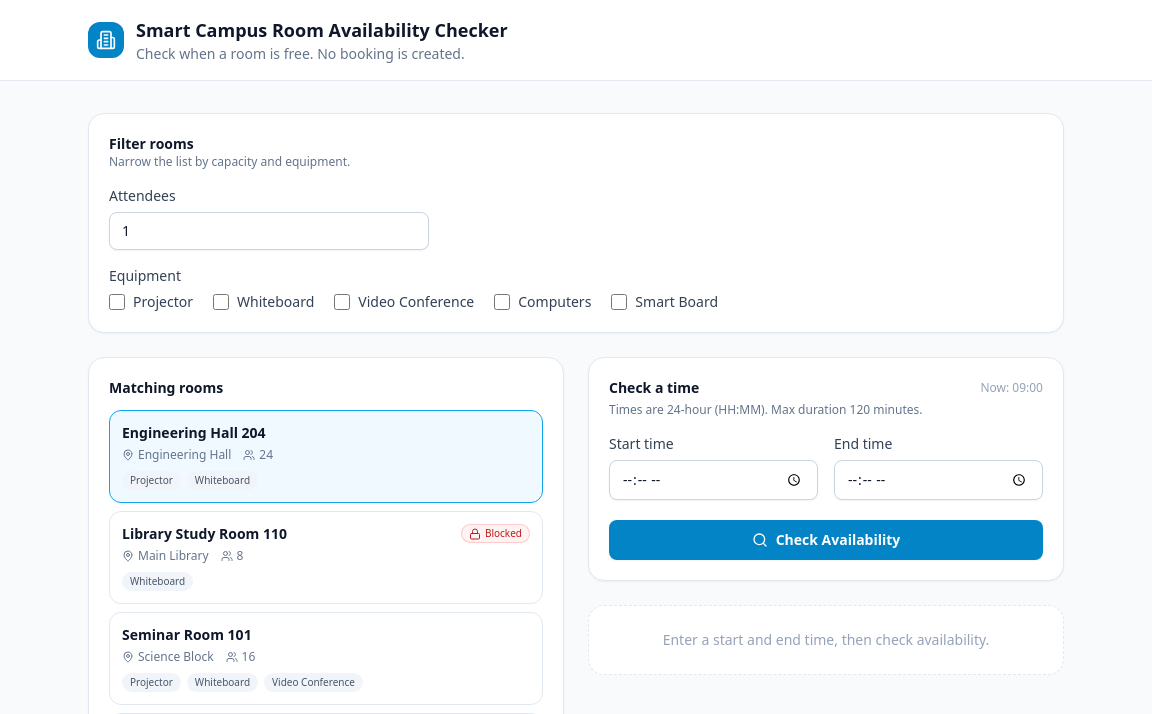
Scenario: UI integration (fixed clock 09:00) › U5 AC6: an empty time field shows a clear validation message instead of a result
Type "11:00" into the time field labelled "End time" at (938, 480), box [834,460,1043,500]
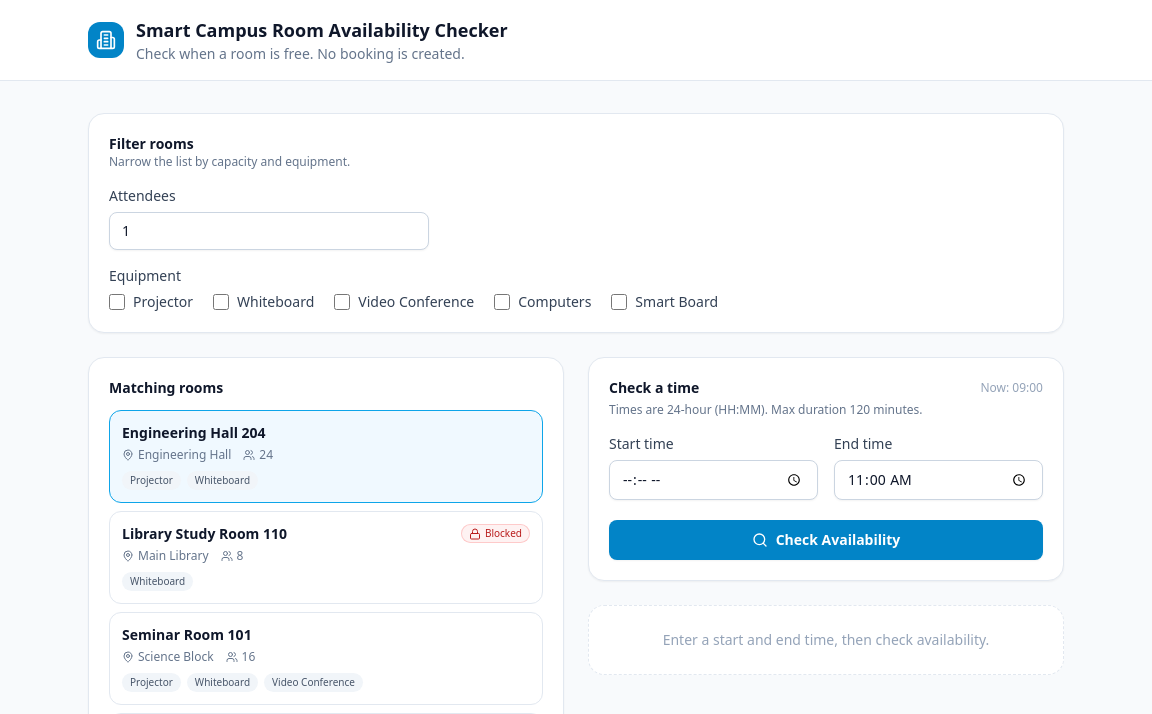
Click the button "Check Availability" at (826, 540), box [609,520,1043,560]
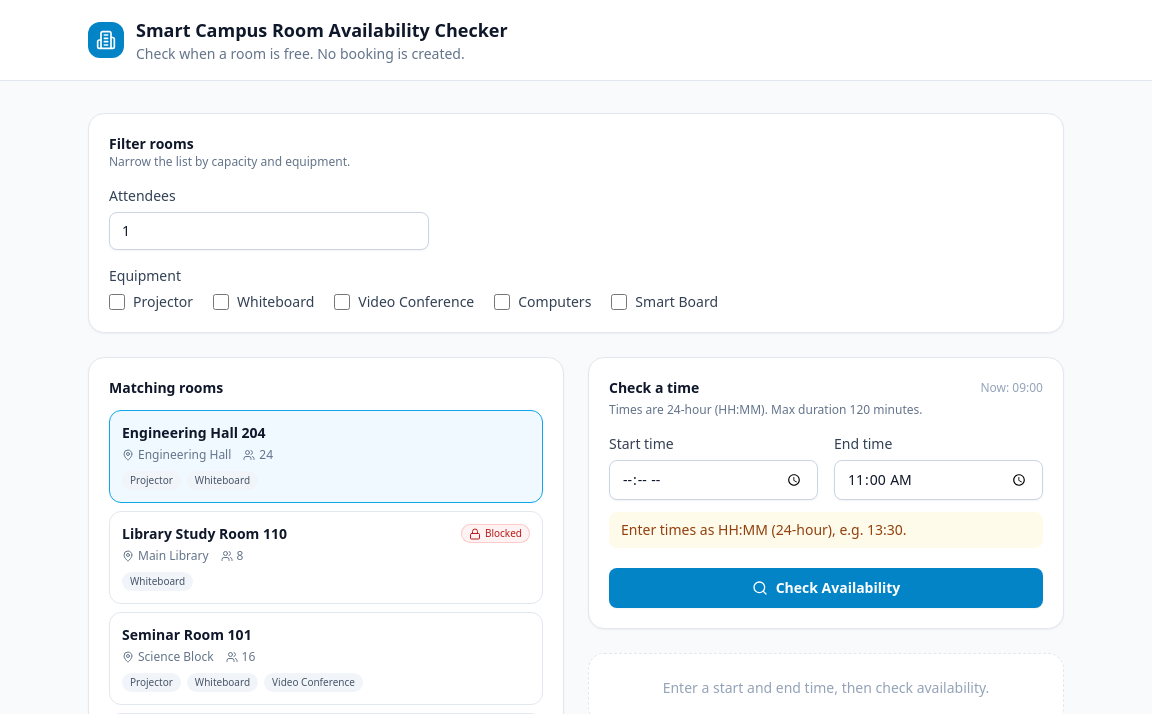
Expected: the text "Enter times as HH:MM (24-hour), e.g. 13:30." is shown, [609,512,1043,548]
